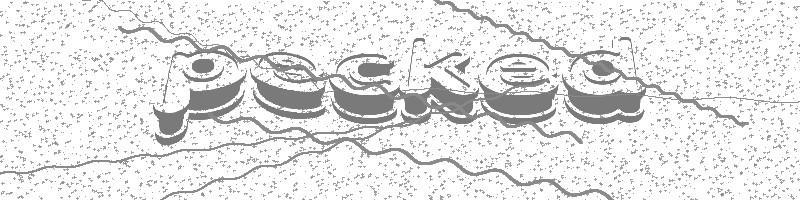c: (328, 49, 401, 125)
d: (563, 35, 651, 127)
e: (479, 51, 562, 127), (245, 49, 328, 116)
k: (403, 35, 481, 125)
p: (149, 45, 248, 143)
